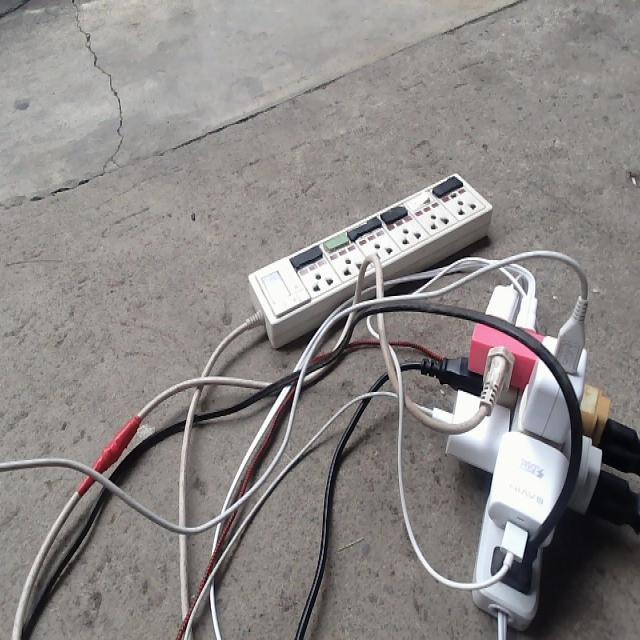-: (438, 285, 627, 628)
